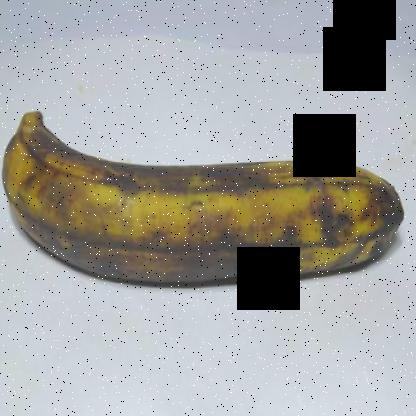overripe: (1, 86, 411, 301)
